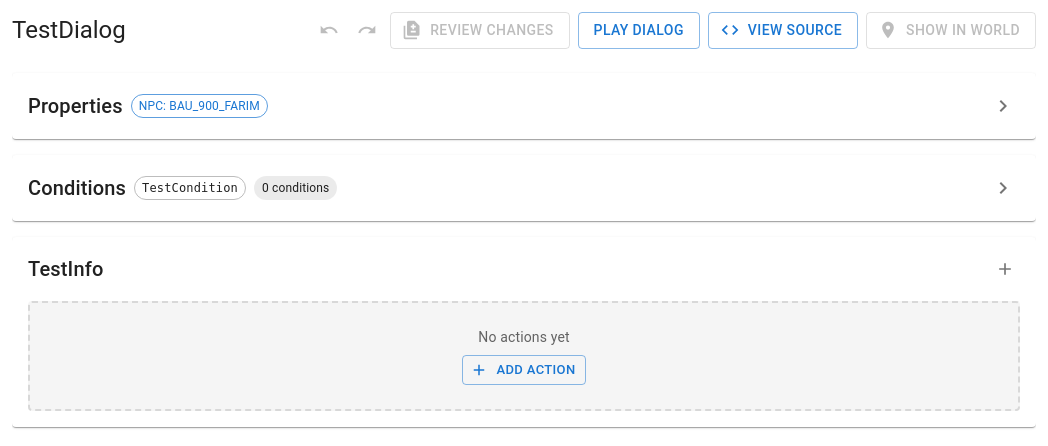
Scenario: the NPC/Dialog view jumps to the world › is disabled with its reason when the project index has never seen the NPC spawned
Hover over the element showing "Show in World" at (951, 30), box [866,12,1036,48]
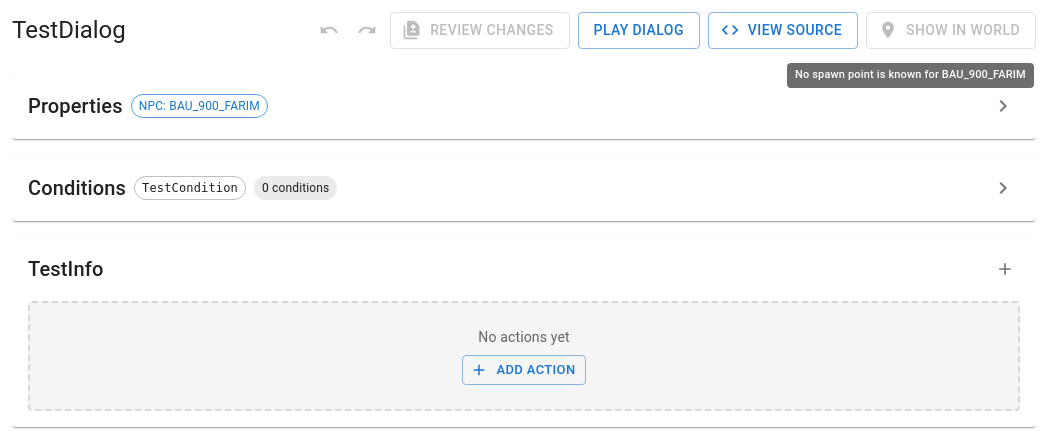
Now the text "No spawn point is known for BAU_900_FARIM" is shown, box [787,63,1034,88]
